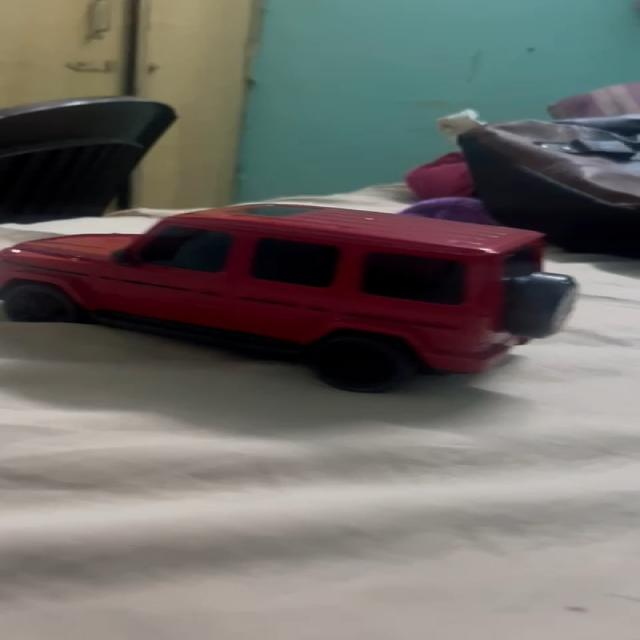light_vehicle: (0, 198, 581, 392)
